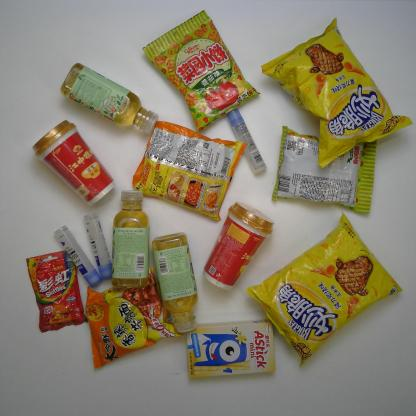Candy: (26, 250, 88, 334)
Dessert: (186, 318, 276, 378)
Drink: (60, 61, 160, 136), (152, 231, 200, 334), (103, 189, 152, 286)
Instant Drink: (30, 118, 117, 208), (201, 200, 276, 292)
Instant Noodles: (132, 120, 248, 222), (85, 266, 185, 370)
Puffed Food: (245, 209, 404, 368), (260, 16, 415, 170), (141, 8, 261, 134), (270, 125, 378, 214)
Stationery: (52, 224, 102, 289), (226, 108, 267, 174), (82, 211, 113, 281)
